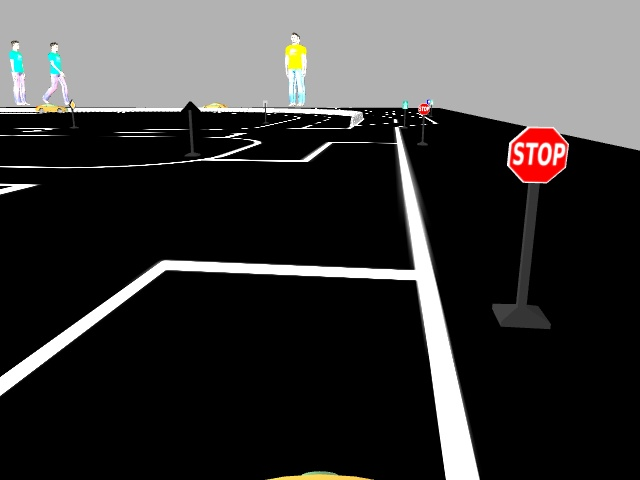Stop: (502, 121, 569, 186)
